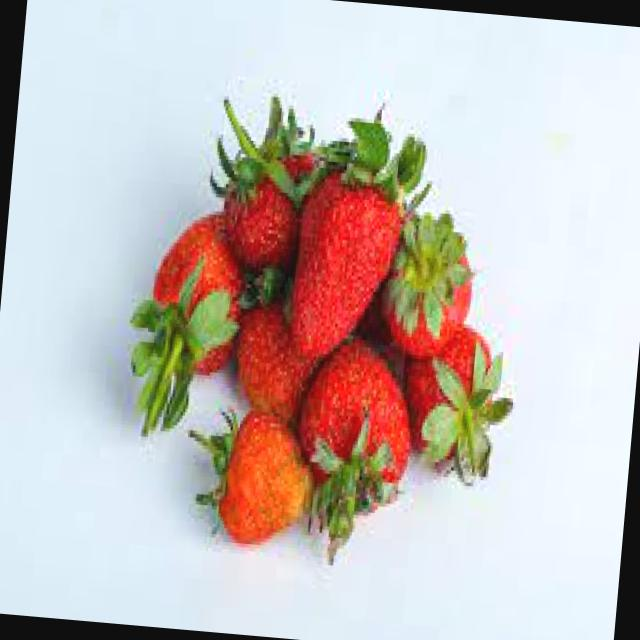strawberry: (280, 122, 408, 368), (129, 160, 252, 394), (291, 333, 418, 506), (185, 398, 330, 548), (375, 209, 480, 364), (398, 320, 502, 468)
